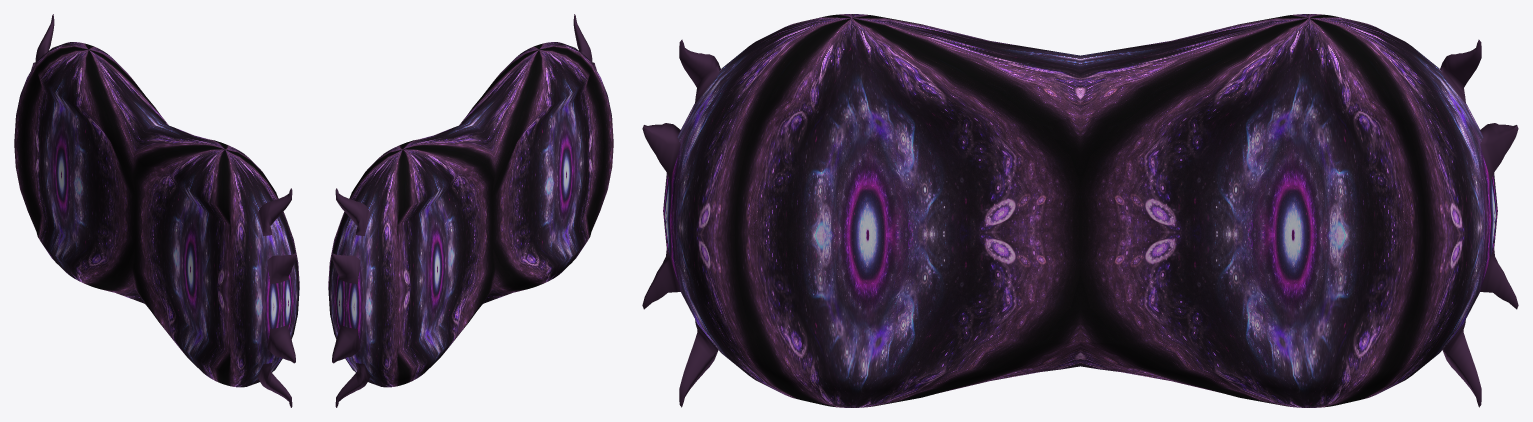
The model's file is amoeba.FBX.
3 renders of one model, left to right at view 1: azimuth 30°, elevation 25°; view 2: azimuth 150°, elevation 25°; view 3: azimuth 270°, elevation 25°, orthographic. The views are drawn at different scales.
Parts seen in each view (by area): view 1: amoeba; view 2: amoeba; view 3: amoeba.
Boxes of the visible parts, left/top/right/bottom form: amoeba: left=14, top=14, right=299, bottom=407; amoeba: left=328, top=14, right=613, bottom=407; amoeba: left=642, top=14, right=1518, bottom=407.
Bounding box in the file's own units: 18.78 × 59.64 × 123.
Materials: 1 (1 with a texture image).
